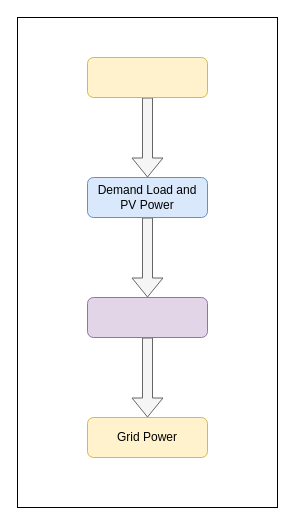
Some shapes in this 295 by 525 pixel diagram are drawn without their labels. The shapes that lost their labels are listed below. From the top down, each one's centre as x and y in pixels, then its label:
(x=147, y=77): Islanded Mode
(x=147, y=317): Surplus Power
